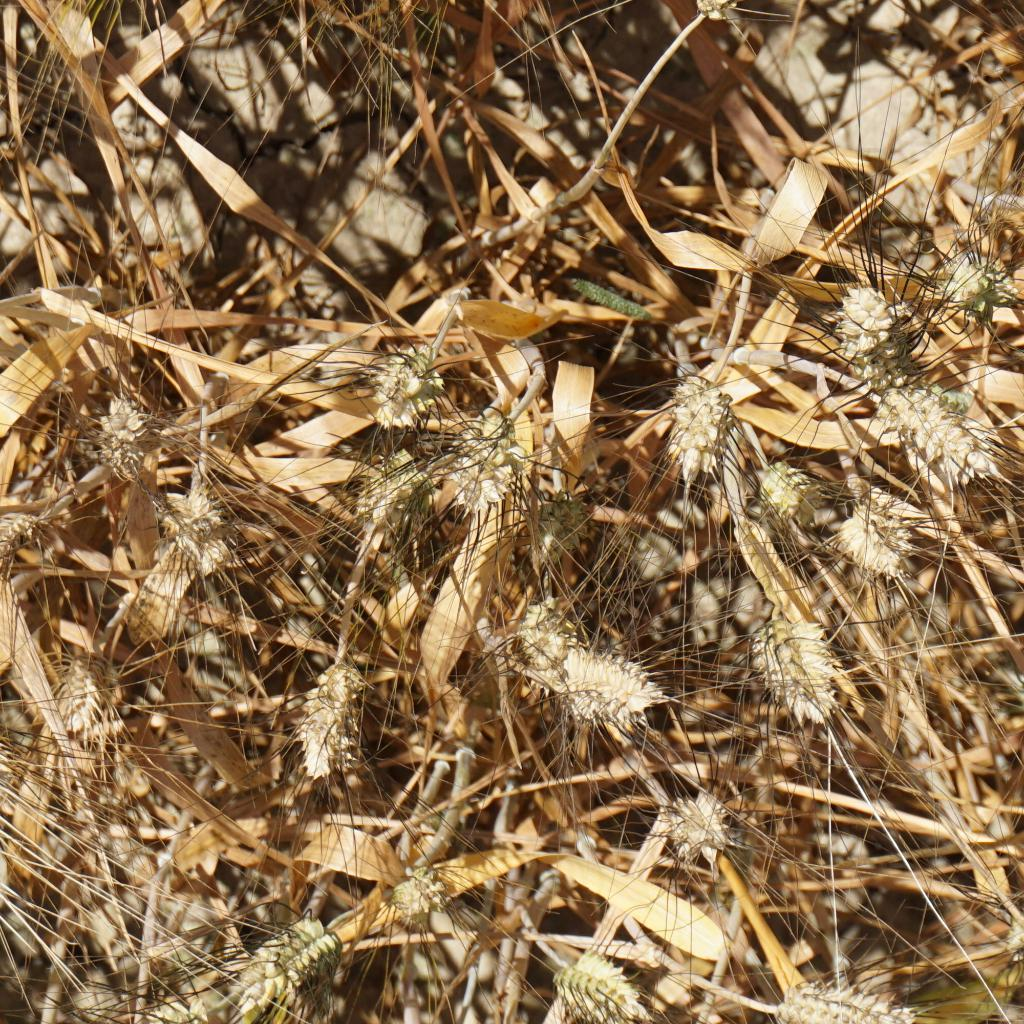0-0: (517, 630, 662, 722), (294, 634, 374, 790), (876, 375, 996, 475), (230, 892, 329, 1011), (495, 591, 591, 684), (49, 647, 122, 759), (659, 385, 739, 482), (777, 623, 848, 731), (763, 462, 848, 550), (371, 349, 456, 436), (773, 968, 903, 1024), (153, 487, 236, 570), (807, 272, 891, 352), (516, 490, 601, 568), (651, 779, 733, 859), (451, 440, 528, 524), (93, 398, 159, 486), (358, 460, 444, 526), (850, 517, 915, 603), (557, 961, 643, 1024), (945, 234, 1009, 318), (381, 868, 462, 934), (745, 614, 807, 699), (0, 487, 54, 566), (0, 694, 21, 786), (996, 900, 1024, 967)
